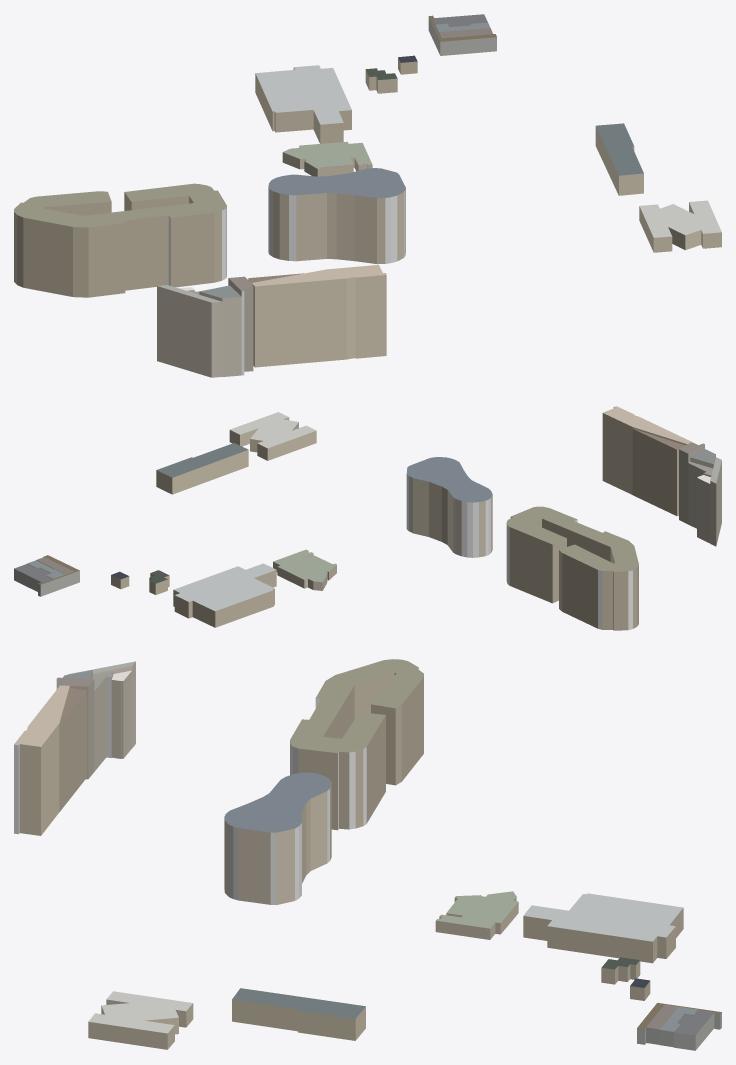
The picture shows the model from 3 angles, top to bottom: view 1: azimuth 30°, elevation 25°; view 2: azimuth 150°, elevation 25°; view 3: azimuth 270°, elevation 25°; orthographic projection. The views are drawn at different scales.
Visible parts, largest first — view 1: tuile; view 2: tuile; view 3: tuile.
Part boxes in pixels (x1,y1,x2,y2): tuile: (14,14,721,377); tuile: (14,406,721,630); tuile: (14,659,721,1050).
Bounding box in the file's own units: 255 × 36.44 × 236.
